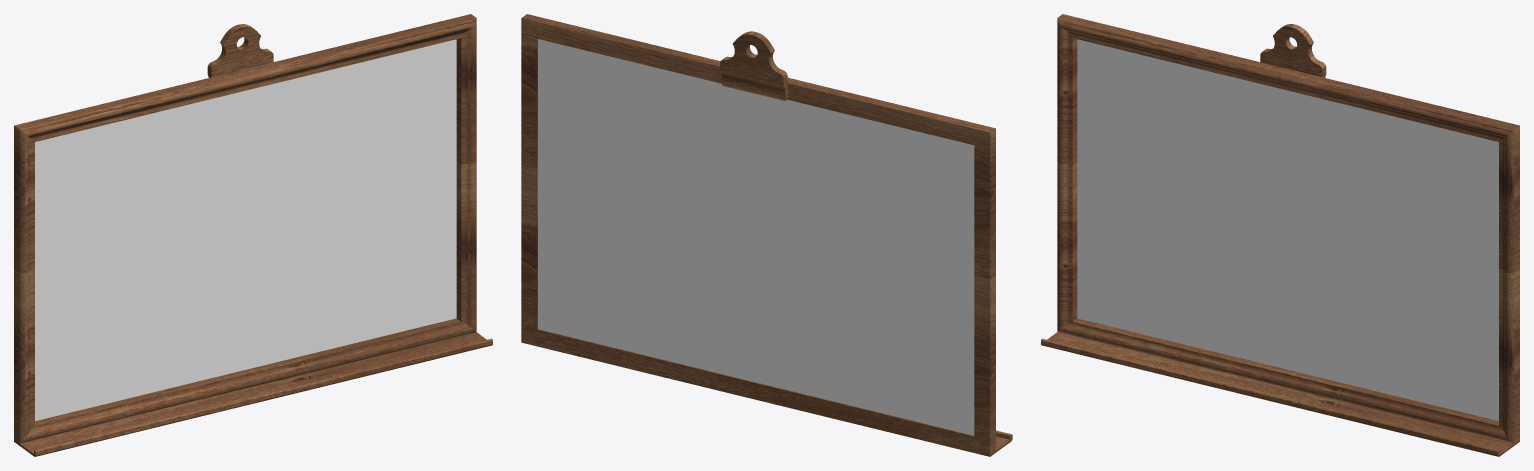
File: quadro_branco.dae
3 views of the same model, side by side, from view 1: azimuth 30°, elevation 25°; view 2: azimuth 150°, elevation 25°; view 3: azimuth 330°, elevation 25° (orthographic). The views are drawn at different scales.
Parts seen in each view (by area): view 1: group_3, group_1 (×2), group_2; view 2: group_3, group_1 (×2), group_2; view 3: group_3, group_1 (×2), group_2.
Boxes of the visible parts, x1=… form: group_3: x1=35, y1=39, x2=456, y2=421; group_1 (×2): x1=14, y1=14, x2=492, y2=456; group_2: x1=207, y1=24, x2=273, y2=77; group_3: x1=538, y1=39, x2=974, y2=435; group_1 (×2): x1=521, y1=14, x2=1012, y2=456; group_2: x1=720, y1=31, x2=787, y2=100; group_3: x1=1077, y1=39, x2=1498, y2=421; group_1 (×2): x1=1041, y1=14, x2=1519, y2=456; group_2: x1=1260, y1=24, x2=1326, y2=77.
Size of the model in its own units: 59 by 5.75 by 44.22.
